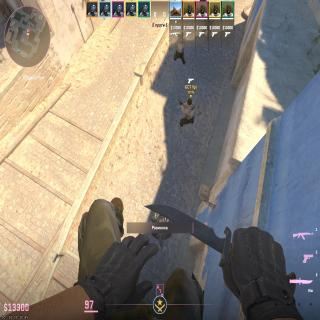CT-Body: (150, 211, 172, 239)
CT-Head: (157, 216, 165, 223)
T-Body: (176, 32, 186, 64), (185, 99, 195, 125)
T-Head: (180, 31, 184, 38), (188, 99, 192, 105)
